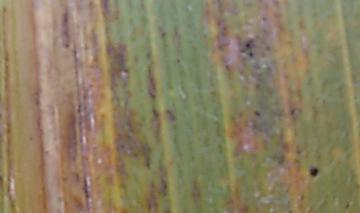tarspot: (308, 166, 320, 178), (252, 109, 261, 118), (343, 200, 351, 210), (287, 107, 297, 115), (259, 14, 267, 24), (223, 62, 231, 72), (62, 42, 70, 50), (247, 49, 253, 58), (244, 41, 251, 48), (174, 56, 180, 64)
